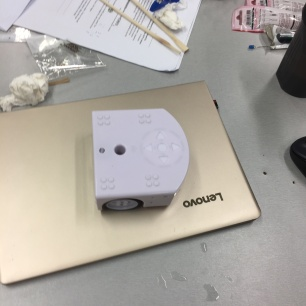thymio: (74, 105, 204, 219)
